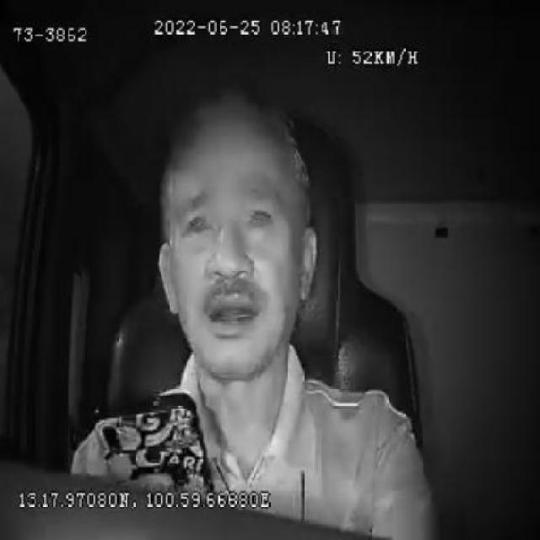phone: (92, 392, 213, 487)
